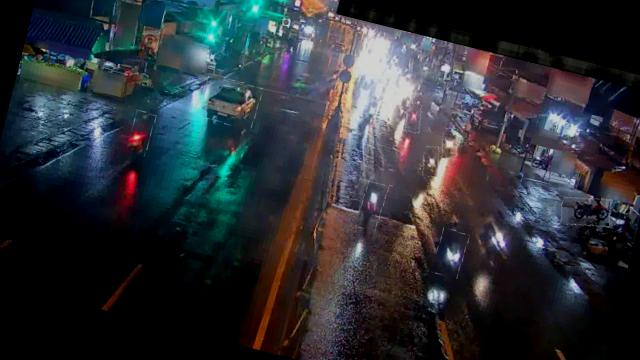Bike: (558, 192, 614, 233), (432, 228, 468, 279), (356, 180, 388, 232), (126, 111, 156, 158), (483, 221, 512, 269), (419, 145, 443, 178), (438, 128, 461, 162), (402, 102, 424, 136), (362, 95, 380, 126)
Car: (197, 74, 263, 130)
